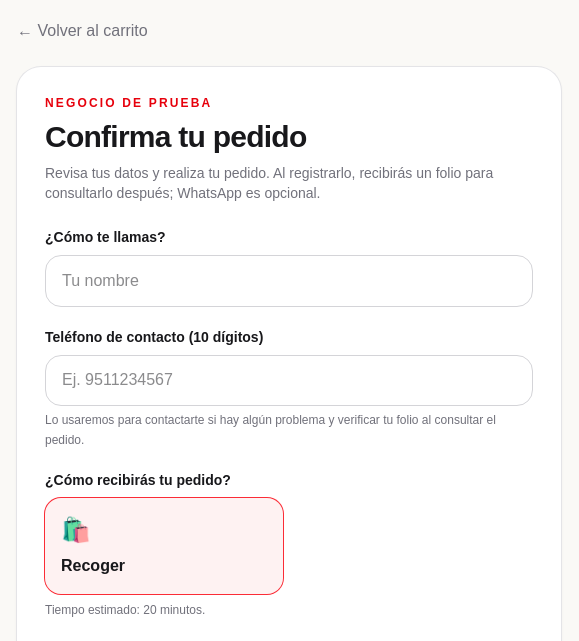
Test: OrderForm · errores › si el negocio pausó los pedidos, no envía nada
Type "Ana Pérez" into the field with placeholder "Tu nombre" at (289, 281), box [45,255,533,307]
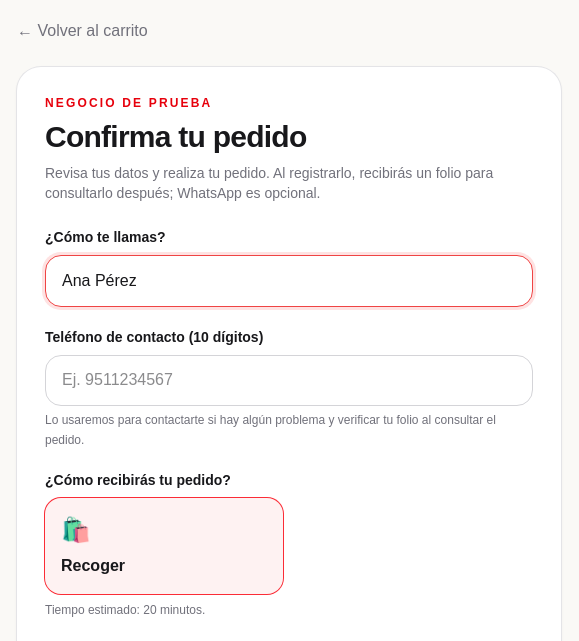
Type "5512345678" into the field with placeholder "Ej. 9511234567" at (289, 380), box [45,355,533,406]
(page scrolled)
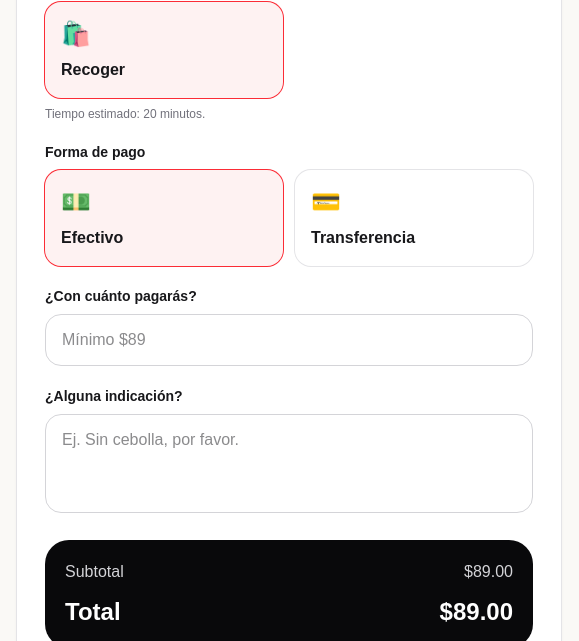
Type "100" into the number field with placeholder "Mínimo $89" at (289, 340), box [45,314,533,366]
(page scrolled)
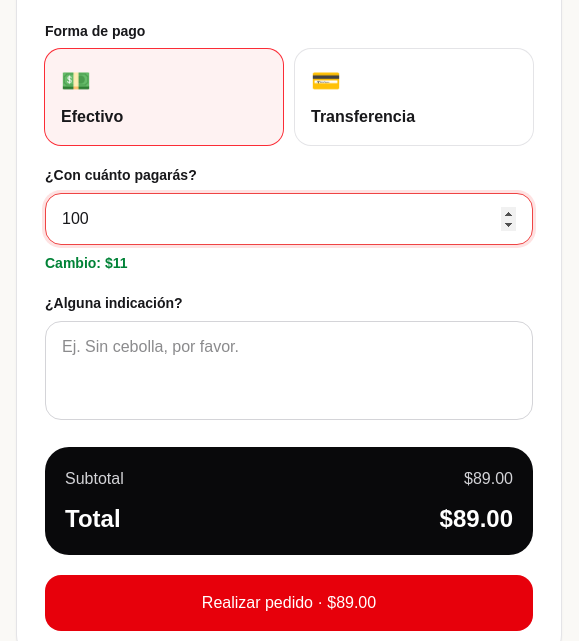
Click the button "Realizar pedido · $89.00" at (289, 603), box [45,575,533,631]
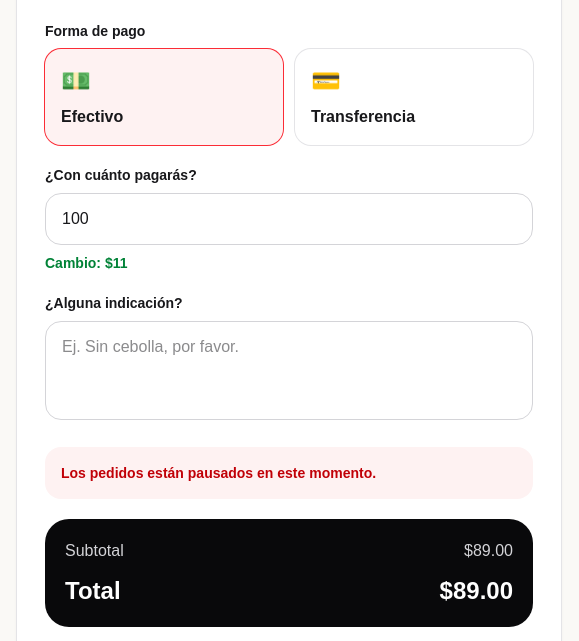
Result: the text "Los pedidos están pausados en este momento." is shown at [45,447,533,499]
